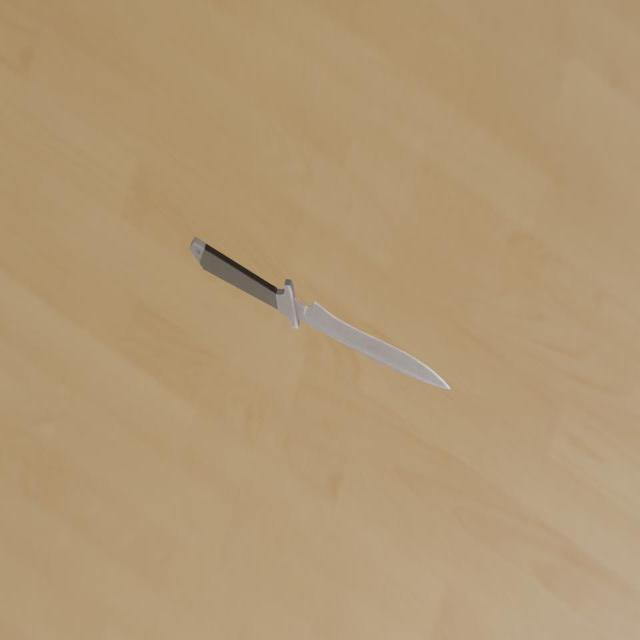knife: (190, 238, 278, 310)
